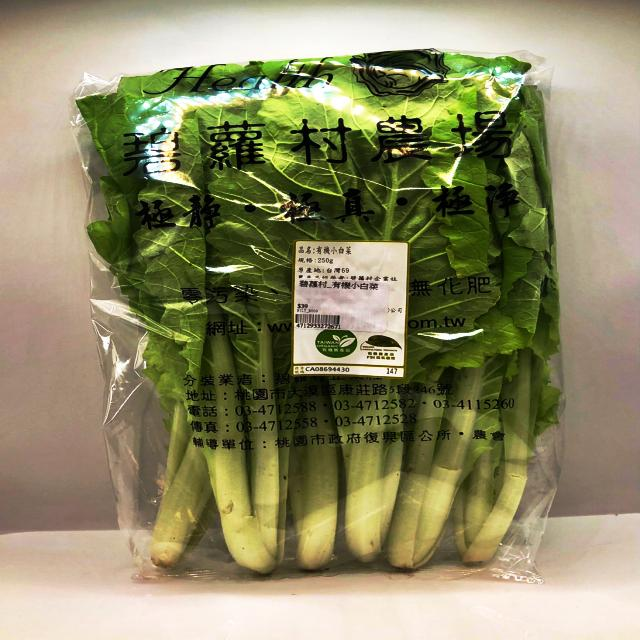chinese_cabbage: (105, 68, 550, 570)
